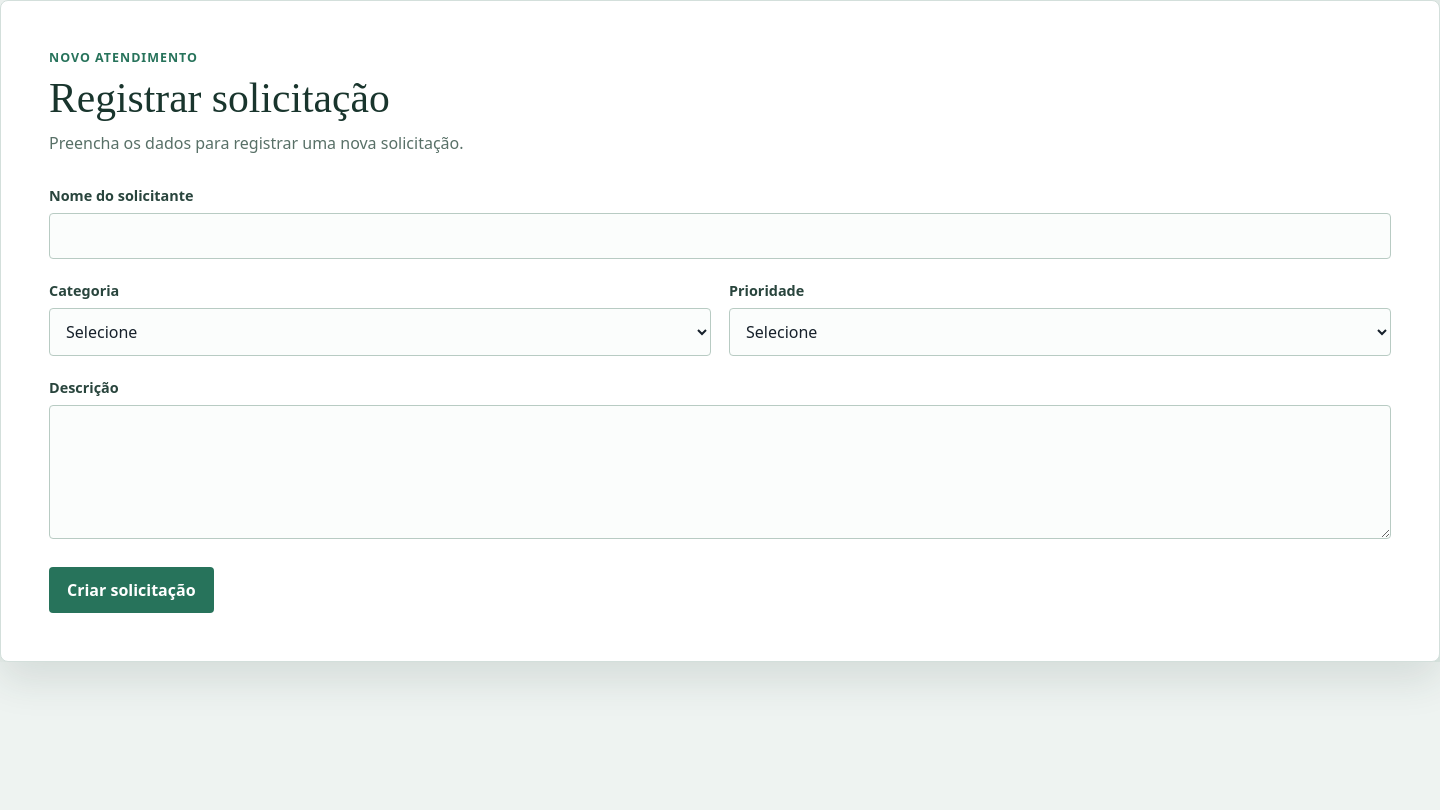
SolicitacaoForm › exibe a validação obrigatória quando a prioridade é urgente sem justificativa
In the field labelled "Nome do solicitante": {"x": 720, "y": 236} [49,213,1391,259], type "Maria Silva"
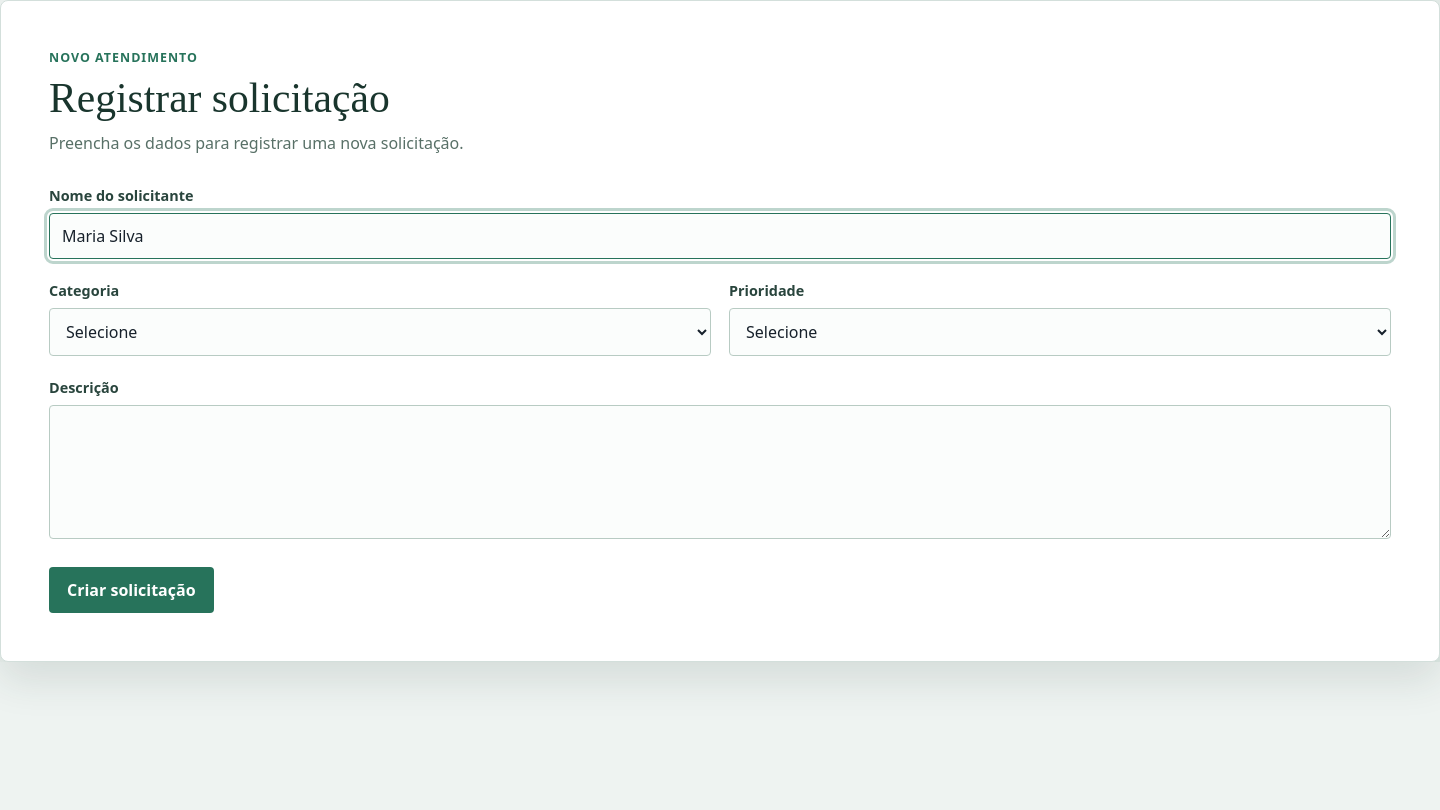
Select "Consulta" in the dropdown labelled "Categoria": {"x": 380, "y": 332} [49,308,711,356]
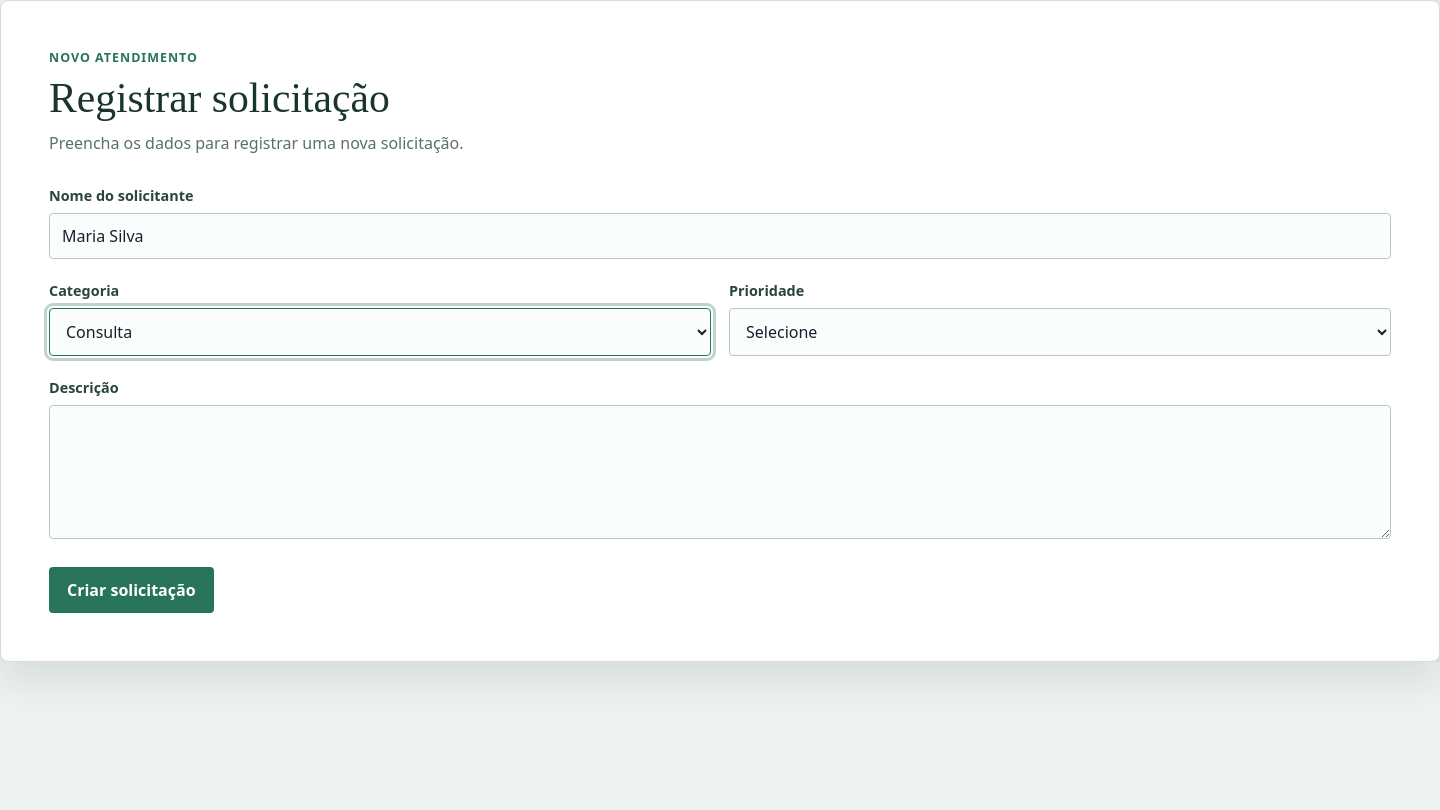
Select "Urgente" in the dropdown labelled "Prioridade": {"x": 1060, "y": 332} [729,308,1391,356]
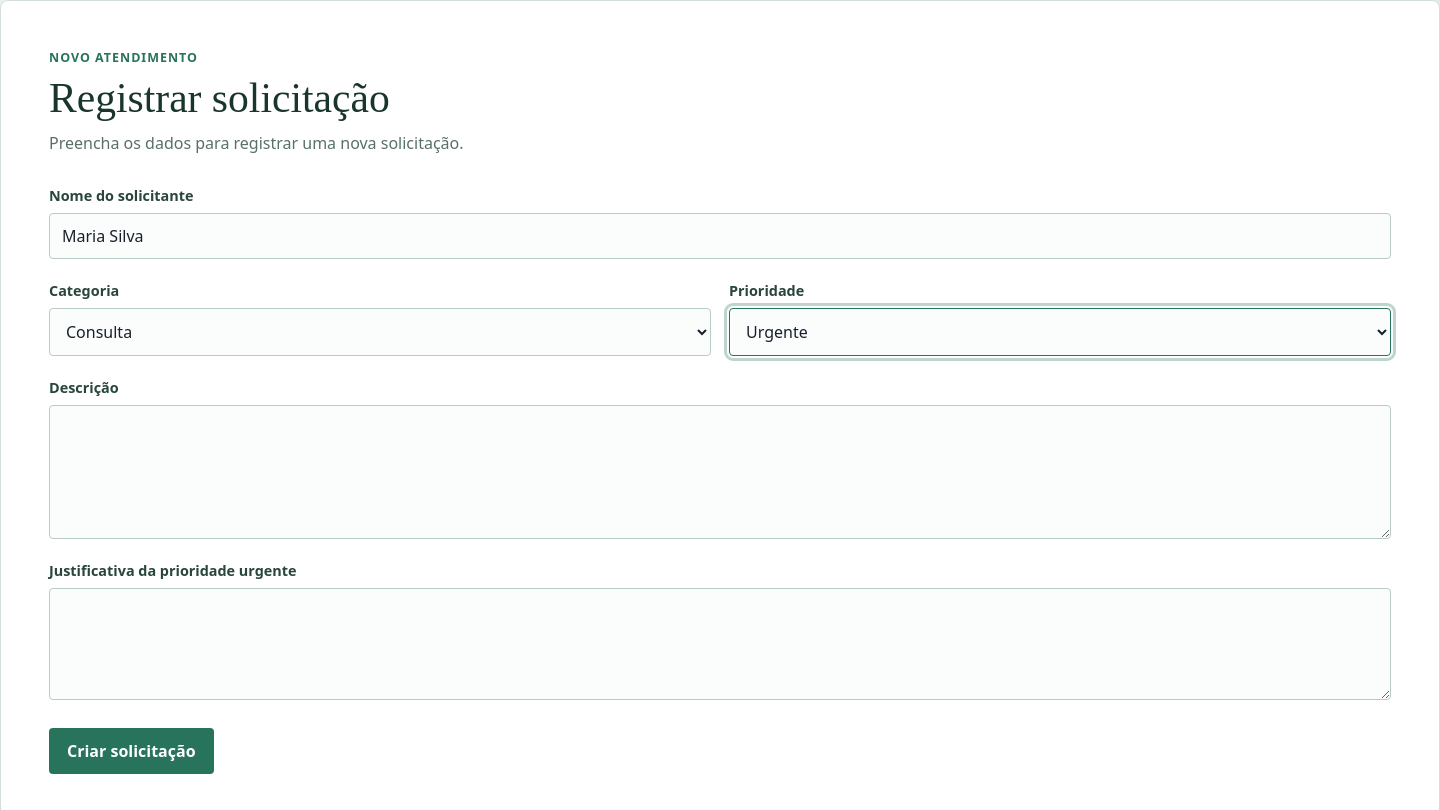
In the text box labelled "Descrição": {"x": 720, "y": 472} [49,405,1391,539], type "Solicitação urgente para atendimento rápido."
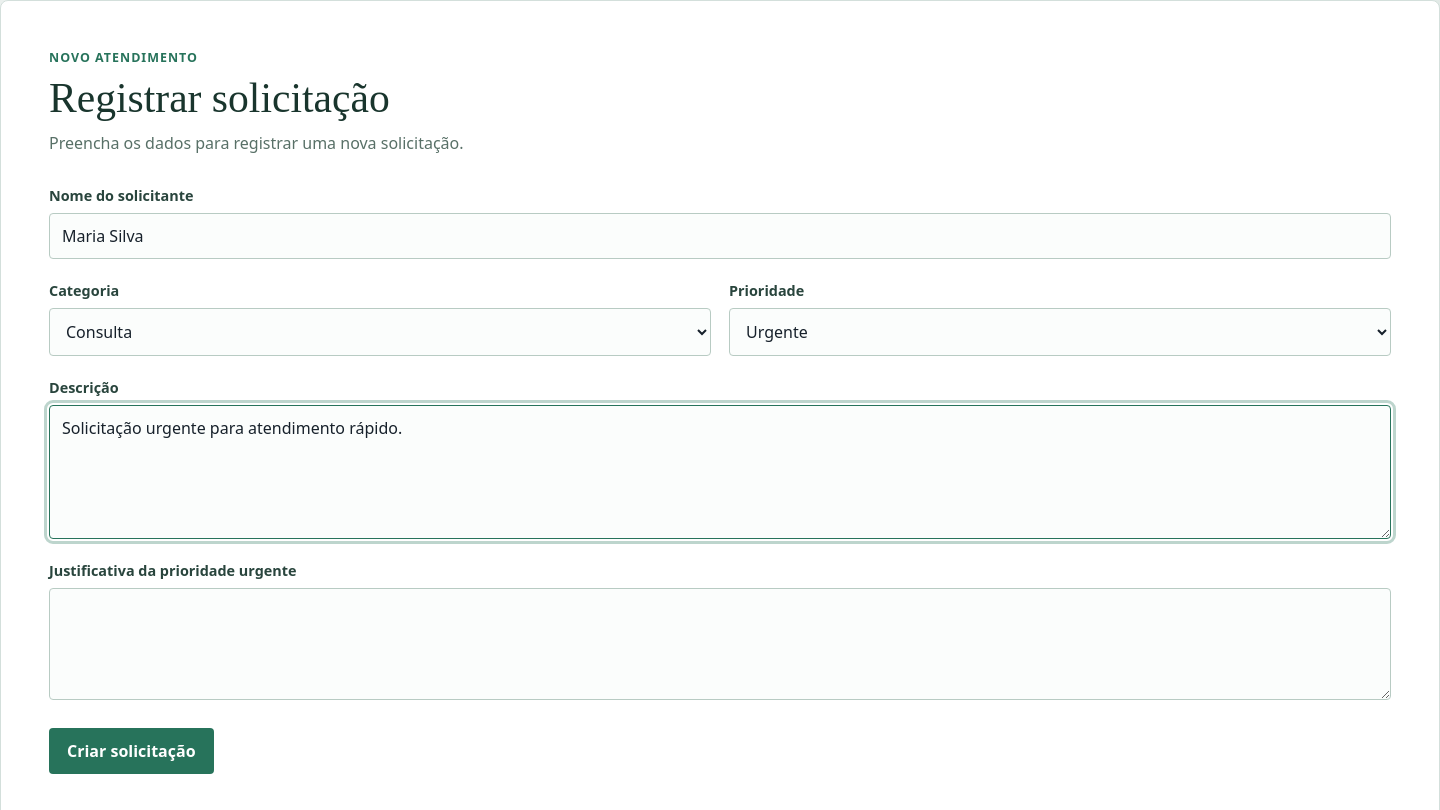
Click the button "Criar solicitação": {"x": 131, "y": 751} [49,728,214,774]
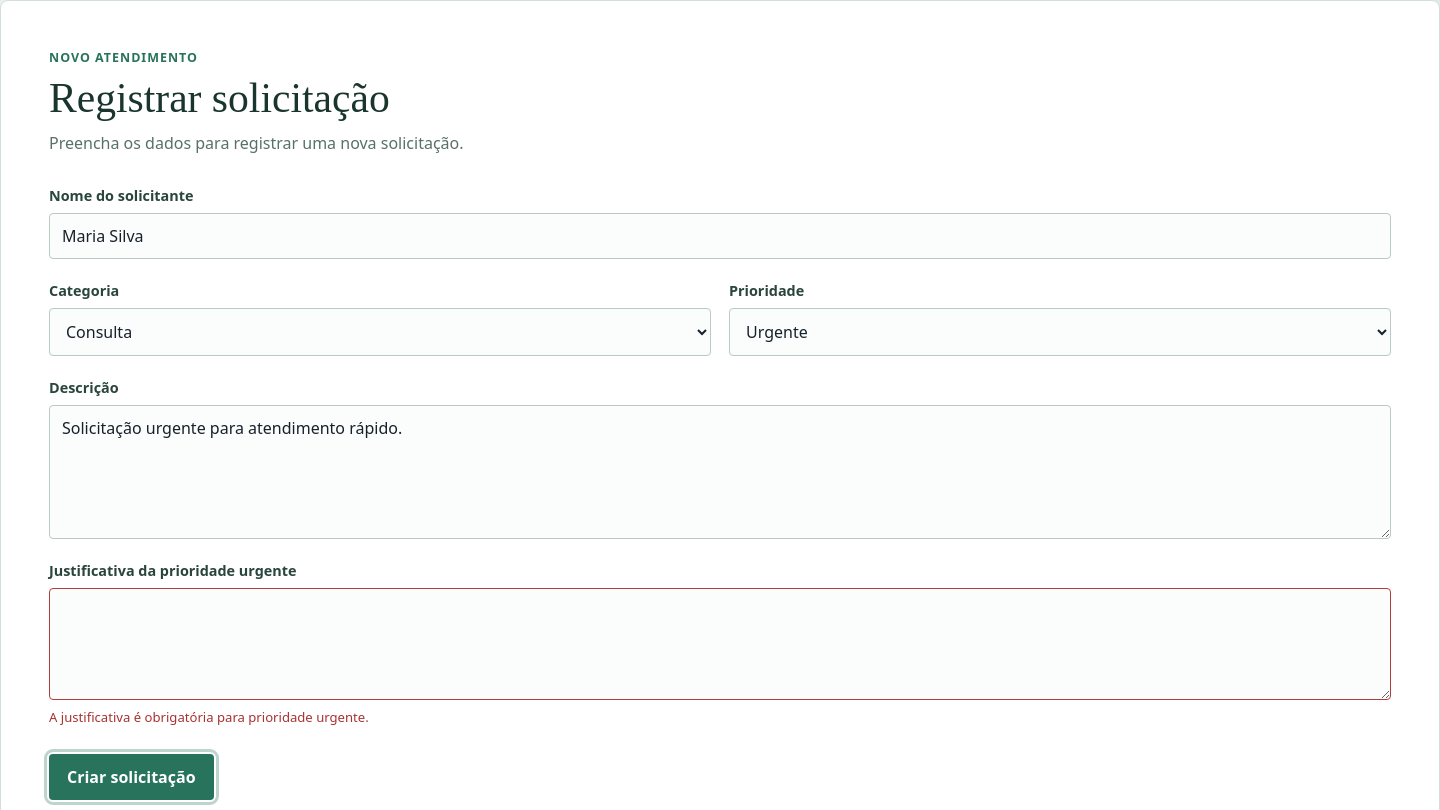
Expected: the text "A justificativa é obrigatória para prioridade urgente." is shown, [49,708,369,726]
